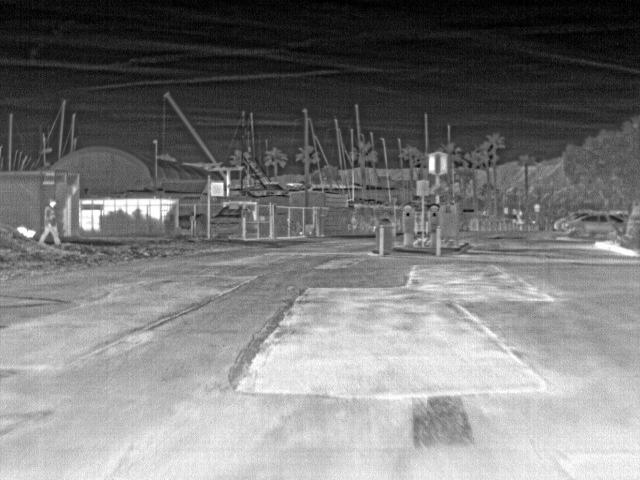car: (573, 212, 624, 242), (549, 210, 576, 239), (623, 220, 640, 248)
dog: (16, 224, 36, 238)
person: (40, 196, 61, 246)
